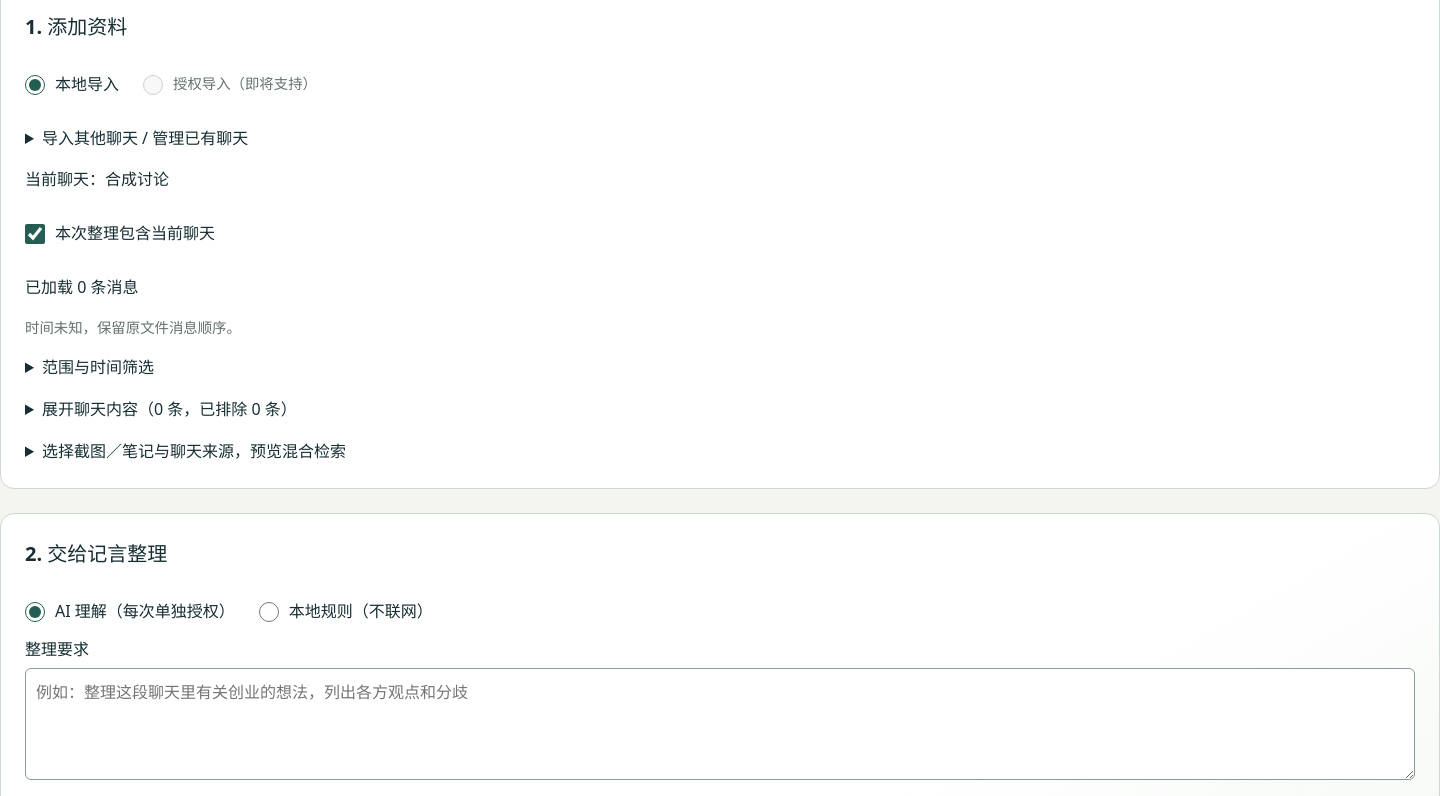
含糊规划必须人工核对，普通空关键词不能扩大到全文
Click the radio button labelled "本地规则（不联网）" at (269, 612), box [259,602,279,622]
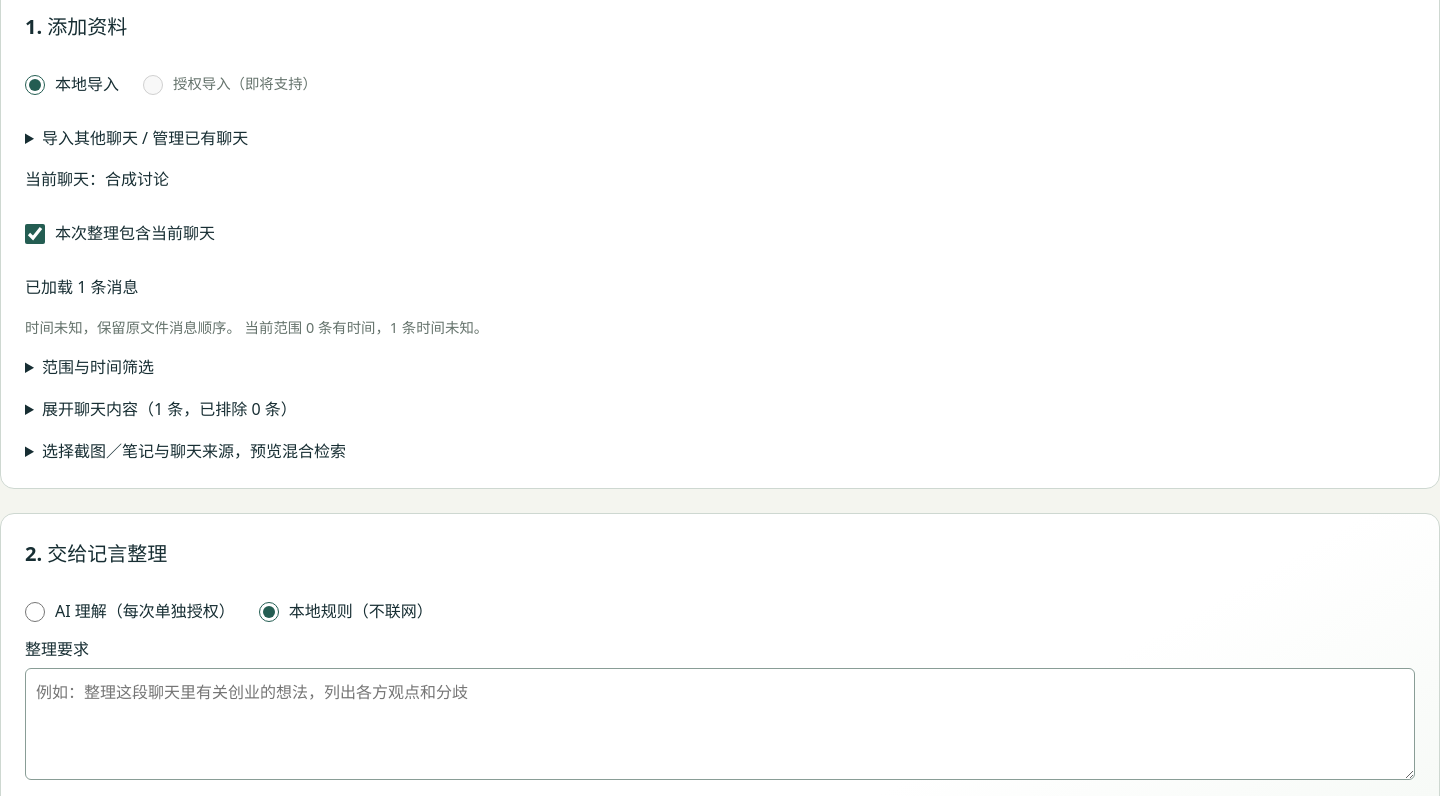
Type "整理一下" into the text box labelled "整理要求" at (720, 724), box [25,668,1415,780]
(page scrolled)
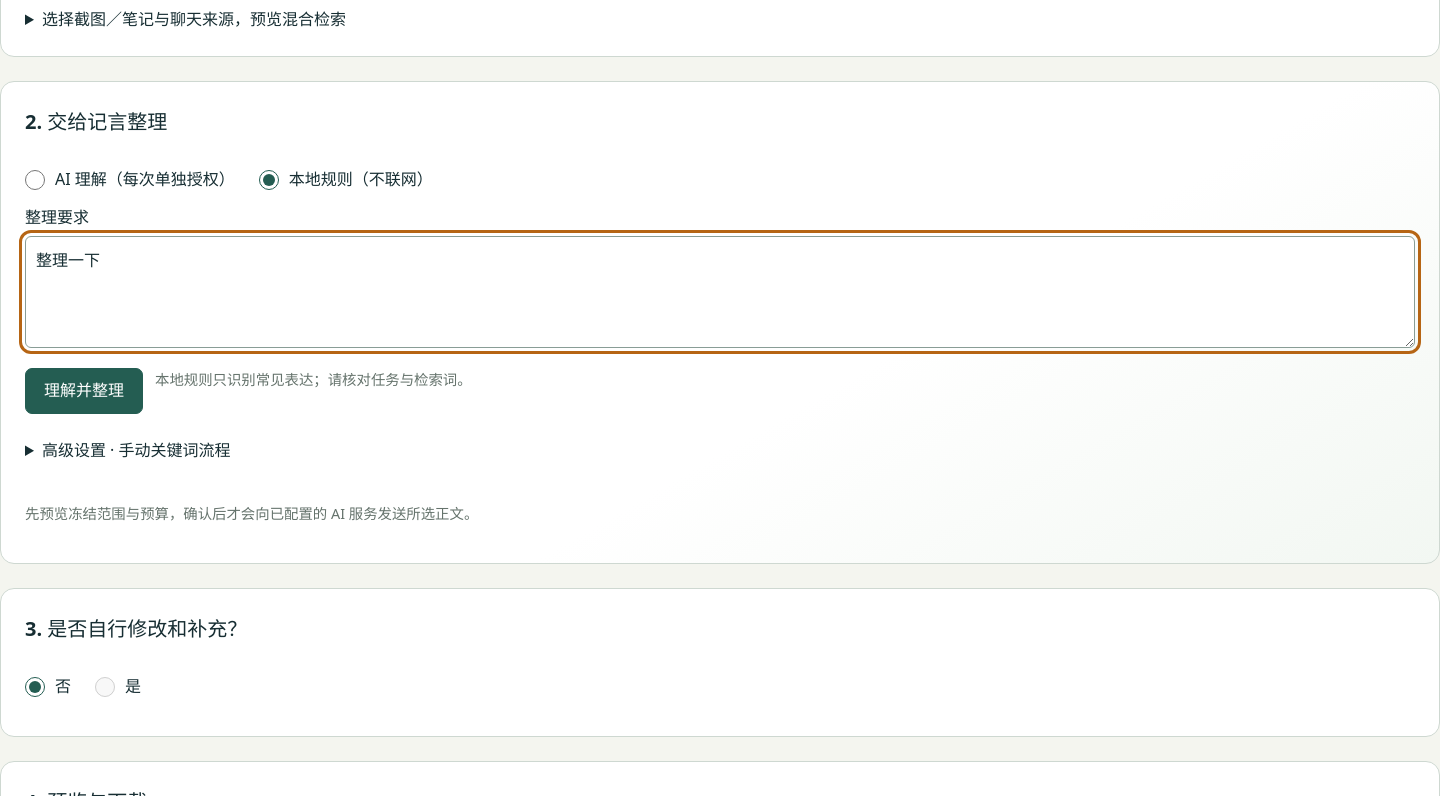
Click the button "理解并整理" at (84, 391), box [25,368,143,414]
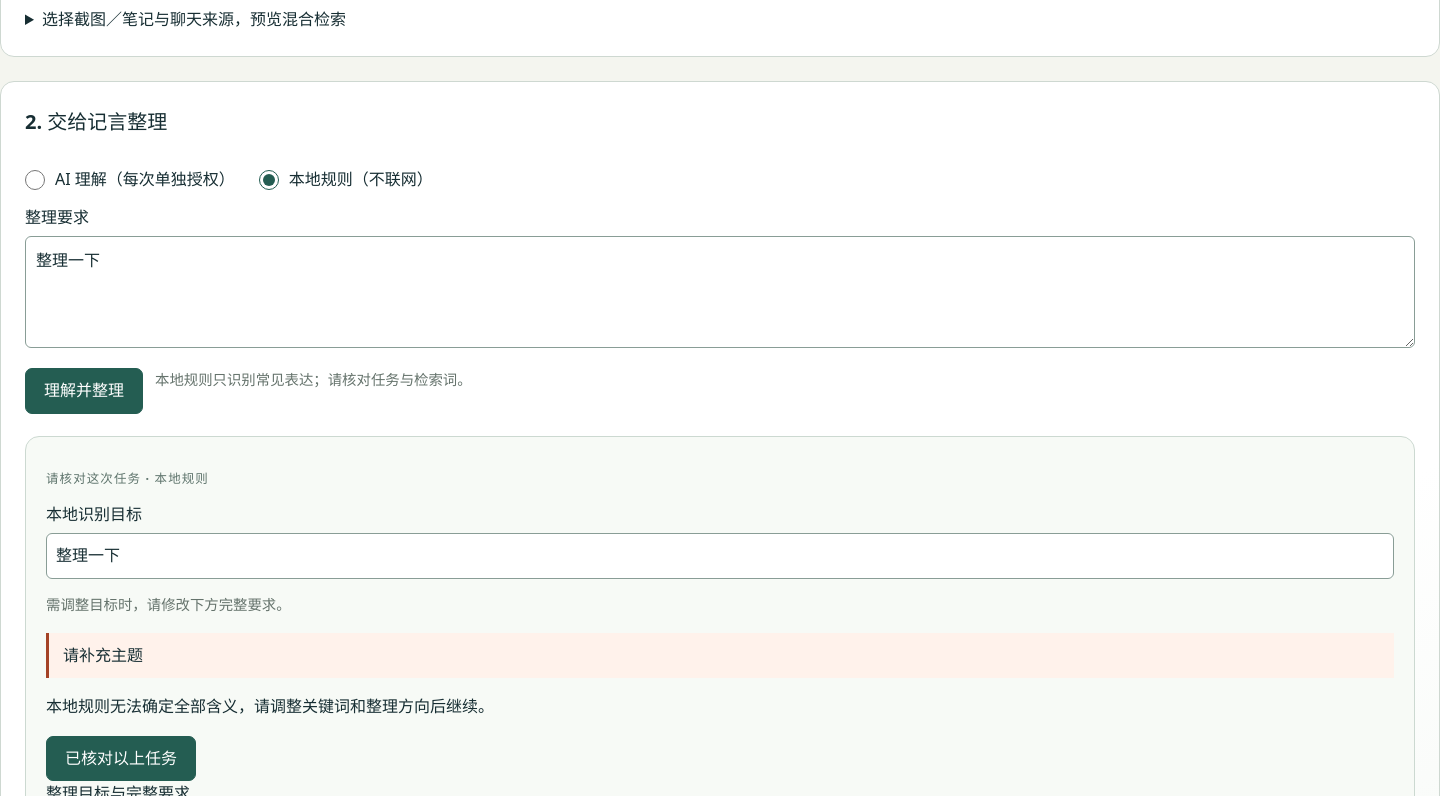
Click the button "已核对以上任务" at (121, 758), box [46,736,196,781]
(page scrolled)
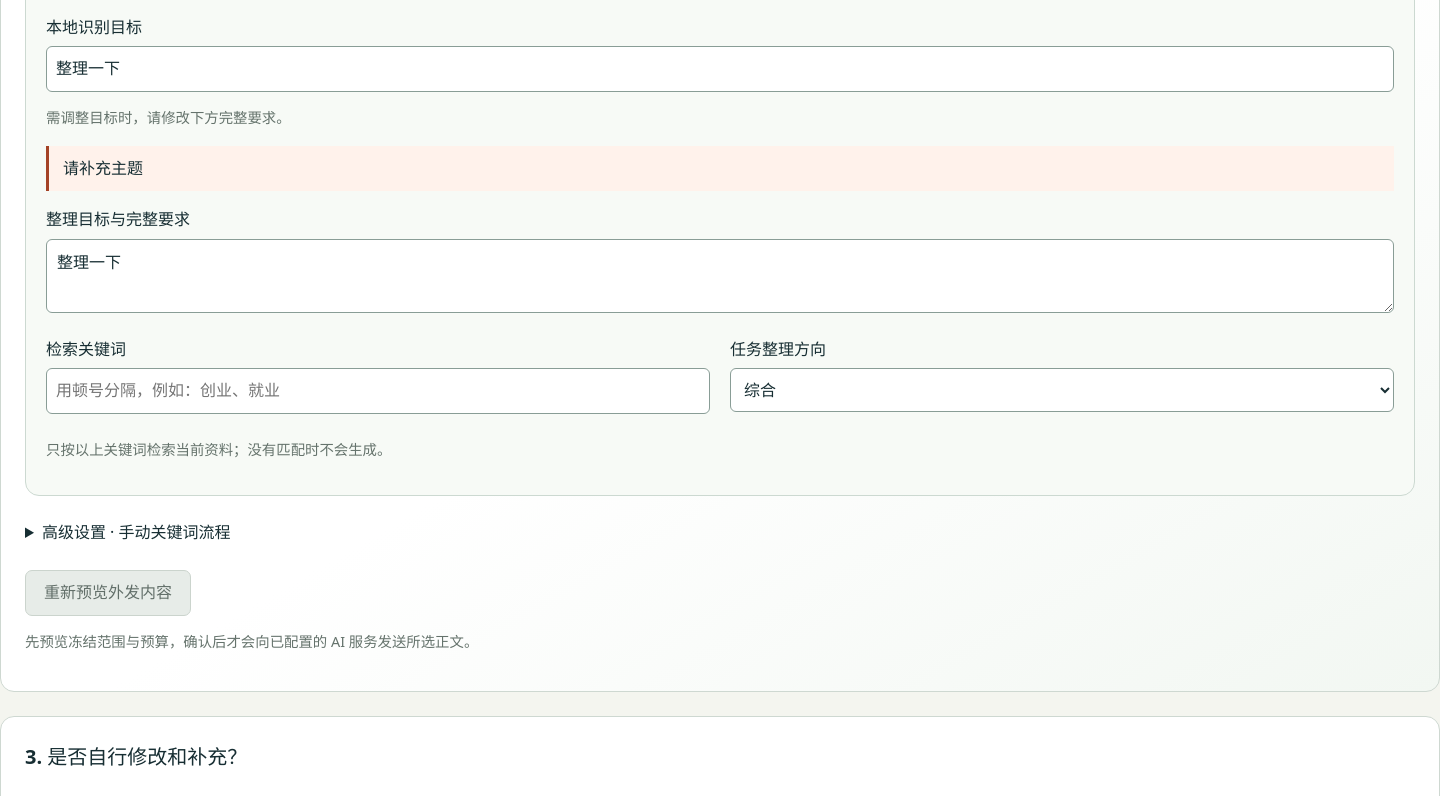
Expected: the button "重新预览外发内容" is disabled, [25,570,191,616]
Type "创业" into the field labelled "检索关键词" at (378, 391), box [46,368,710,414]
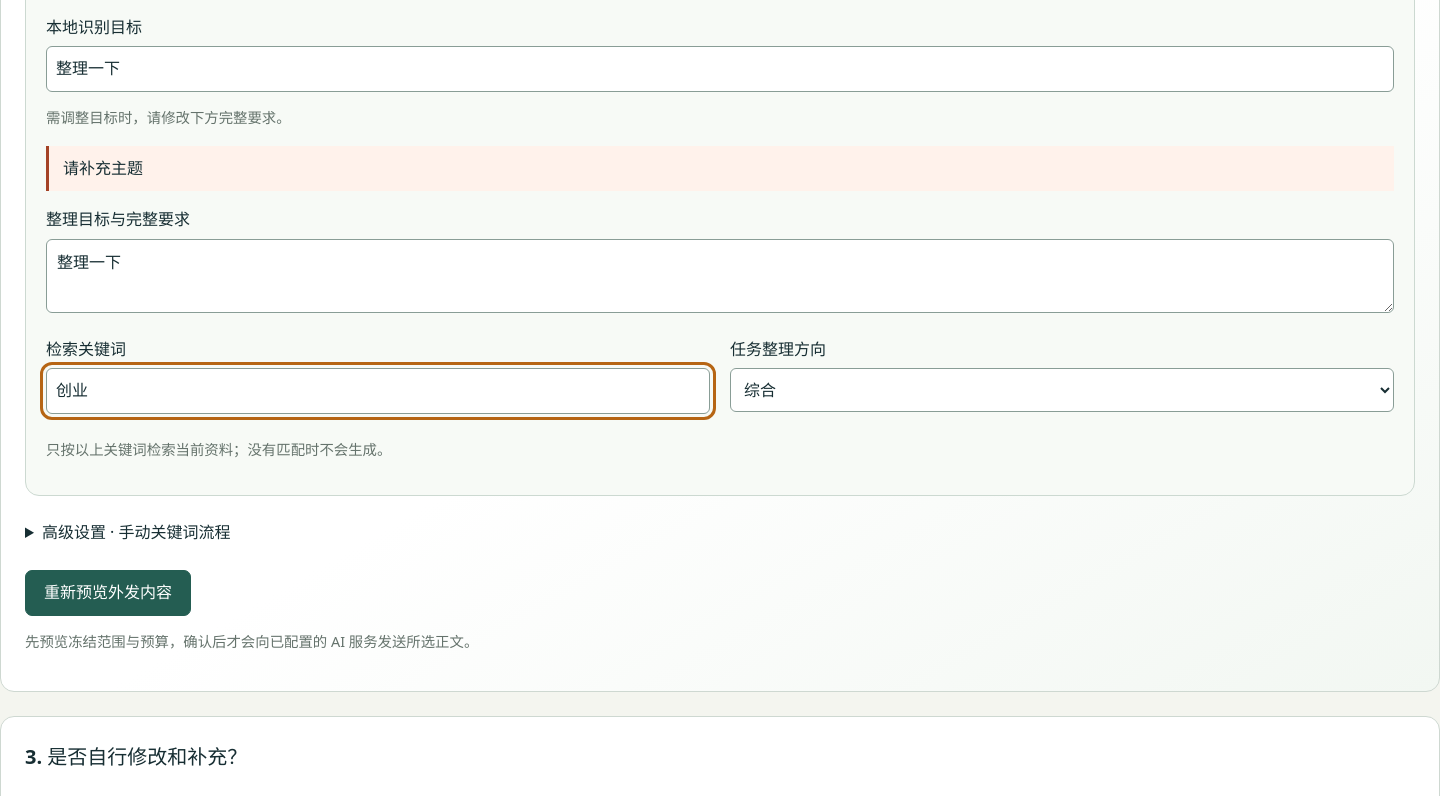
Expected: the button "重新预览外发内容" is enabled, [25,570,191,616]
